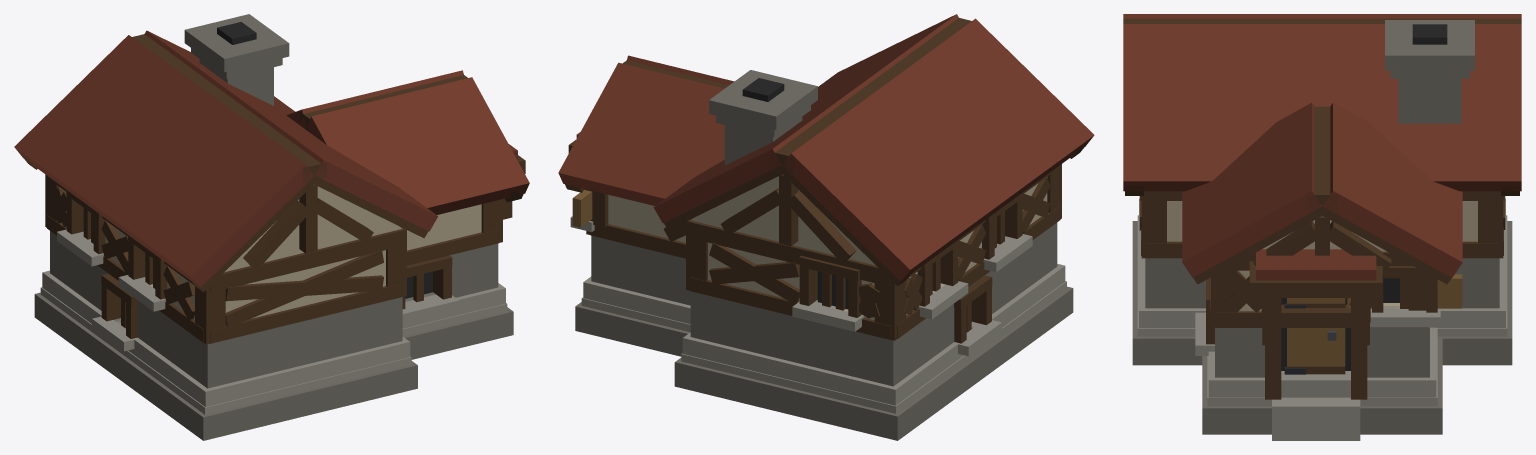
The model's file is cottage_b.glb.
The picture shows the model from 3 angles, left to right: view 1: azimuth 30°, elevation 25°; view 2: azimuth 150°, elevation 25°; view 3: azimuth 270°, elevation 25°; orthographic projection. The views are drawn at different scales.
Visible parts, largest first — view 1: roof_tile, stone, timber, stone_light, plaster, soot; view 2: roof_tile, stone, timber, stone_light, plaster, soot, timber_light; view 3: roof_tile, stone, timber, stone_light, timber_light, plaster, soot.
Boxes of the visible parts, x1,y1,x2,y2 form: roof_tile: (14,30,529,287); stone: (34,14,513,440); timber: (24,34,525,344); stone_light: (40,229,507,414); plaster: (59,186,481,319); soot: (217,22,432,298); roof_tile: (558,14,1094,281); stone: (575,70,1073,440); timber: (565,18,1088,343); stone_light: (570,216,1066,413); plaster: (608,176,1047,320); soot: (742,78,784,101); timber_light: (572,189,592,227); roof_tile: (1123,14,1521,280); stone: (1132,20,1512,434); timber: (1123,18,1521,399); stone_light: (1137,198,1507,440); timber_light: (1287,274,1462,365); plaster: (1167,201,1477,311); soot: (1281,24,1447,370).
Size of the model in its own units: 80.14 by 53.6 by 63.
